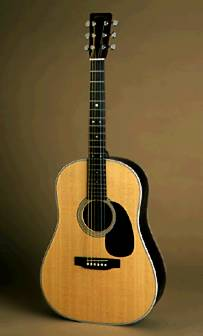guitar: (36, 10, 167, 329)
